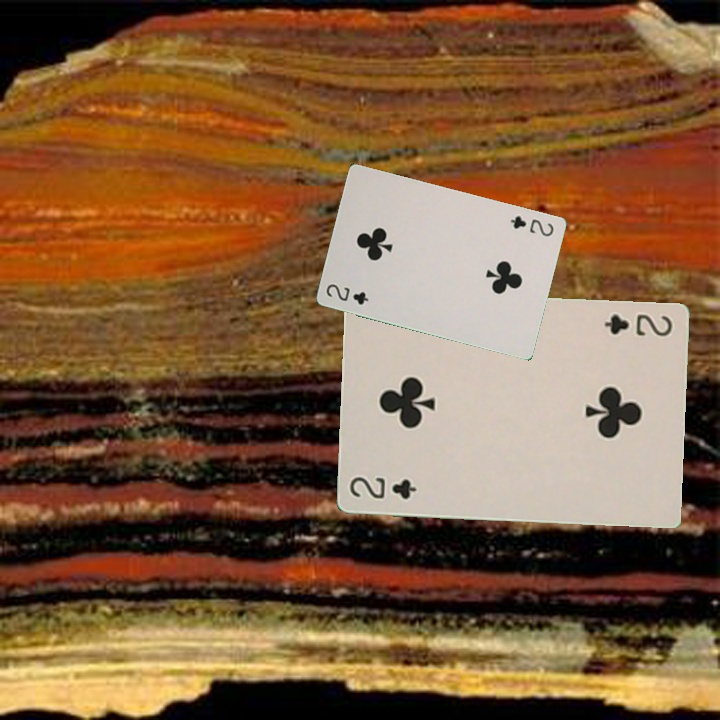2c: (346, 472, 419, 502), (600, 310, 675, 339), (506, 211, 556, 239), (322, 279, 371, 307)
